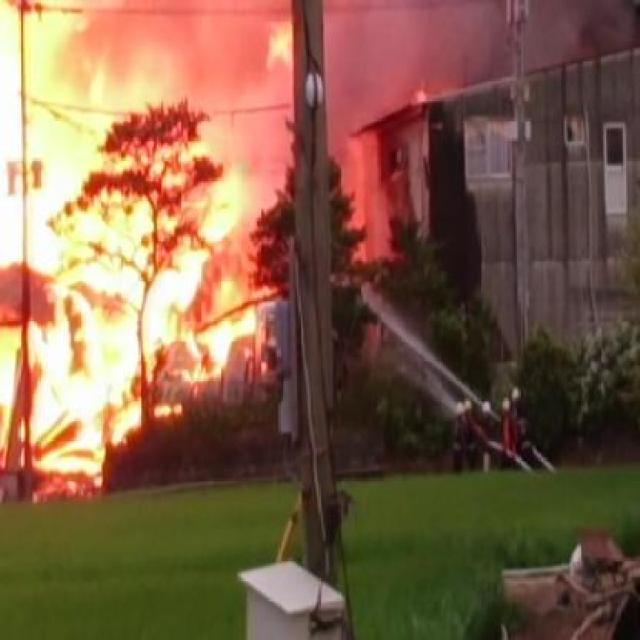Fire: (6, 1, 287, 508)
